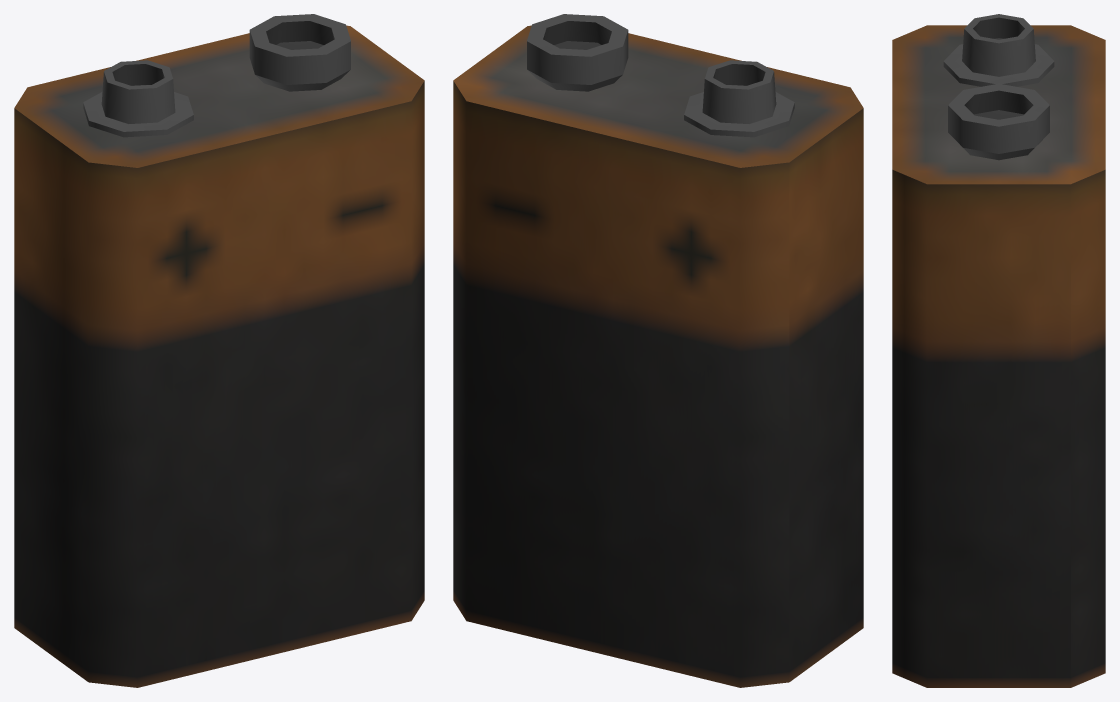
File: battery_mp_3_2.obj
3 views of the same model, side by side, from view 1: azimuth 30°, elevation 25°; view 2: azimuth 150°, elevation 25°; view 3: azimuth 270°, elevation 25° (orthographic). The views are drawn at different scales.
Visible parts, largest first — view 1: battery_mp_3_2; view 2: battery_mp_3_2; view 3: battery_mp_3_2.
Part boxes in pixels (left/top/right/bottom): battery_mp_3_2: left=14, top=14, right=424, bottom=687; battery_mp_3_2: left=453, top=14, right=863, bottom=687; battery_mp_3_2: left=892, top=14, right=1105, bottom=687.
Bounding box in the file's own units: 0.0648 × 0.103 × 0.0368.
